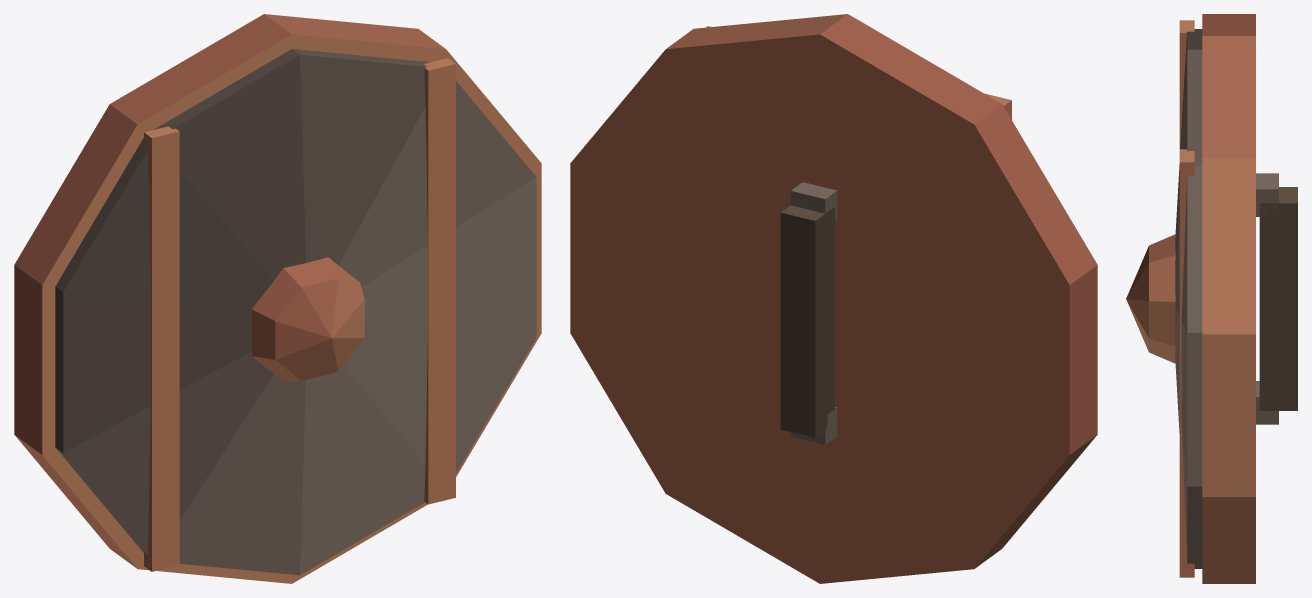
Rendered from knight_off_0.gltf.
3 views of the same model, side by side, from view 1: azimuth 30°, elevation 25°; view 2: azimuth 150°, elevation 25°; view 3: azimuth 270°, elevation 25° (orthographic). The views are drawn at different scales.
Parts seen in each view (by area): view 1: knight_off_0; view 2: knight_off_0; view 3: knight_off_0.
Boxes of the visible parts, <box> form: knight_off_0: <box>14,14,541,583</box>; knight_off_0: <box>570,14,1097,583</box>; knight_off_0: <box>1126,14,1297,583</box>.
Bounding box in the file's own units: 0.7228 × 0.76 × 0.225.
1 material, 1 textured.
